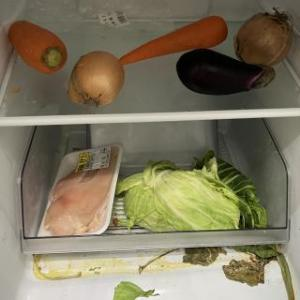cabbage: (123, 150, 268, 234)
carrot: (117, 15, 229, 64), (7, 17, 69, 74)
eggplant: (176, 46, 278, 98)
onion: (234, 8, 299, 68), (67, 50, 127, 108)
